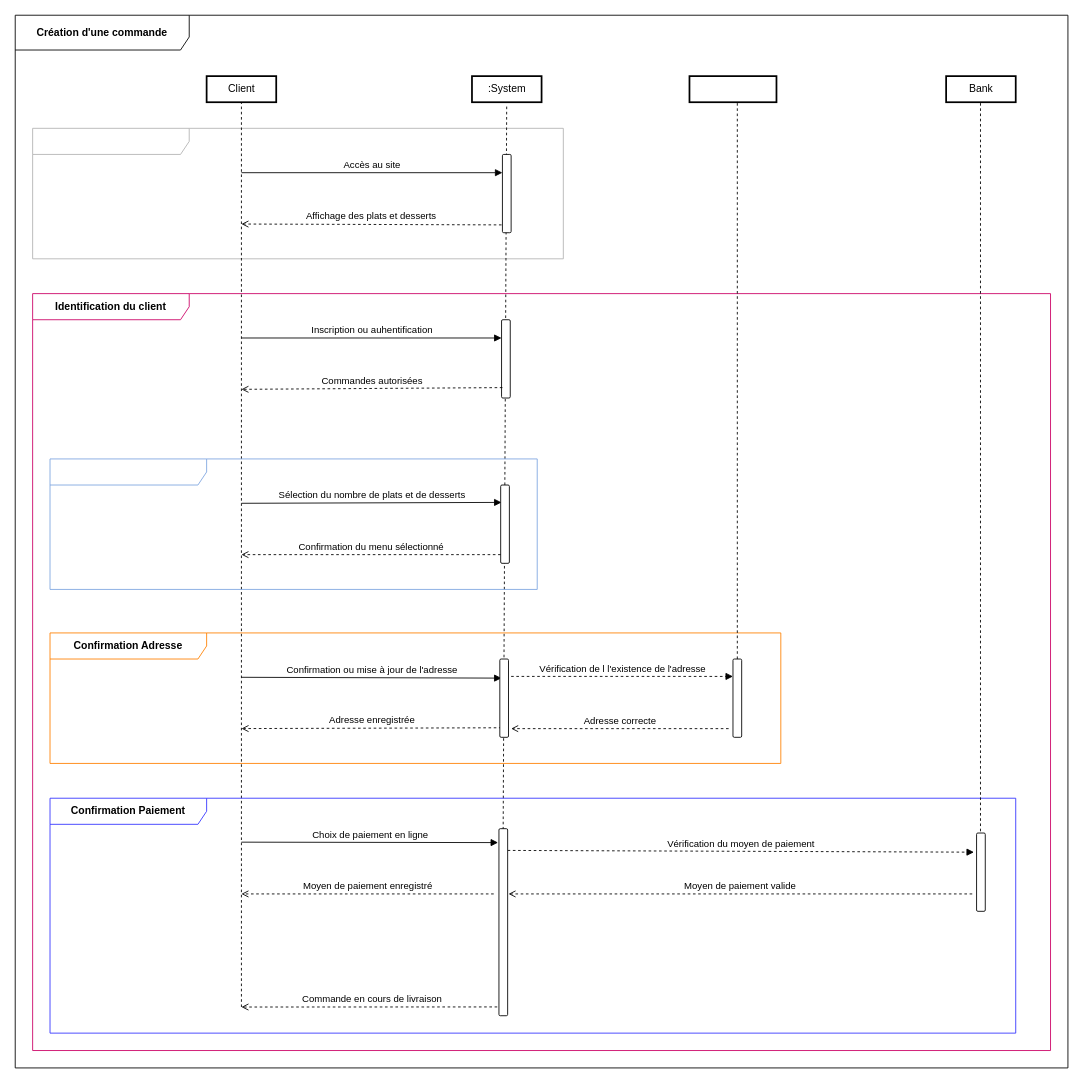
This 1083x1083 diagram has some shape labels left out. Here are the shapes that lost their labels. From the top down, the box of each, then its label:
(688, 75, 777, 103): Géolocalisation
(32, 127, 563, 259): Consultation du menu
(49, 458, 537, 589): Création Panier
